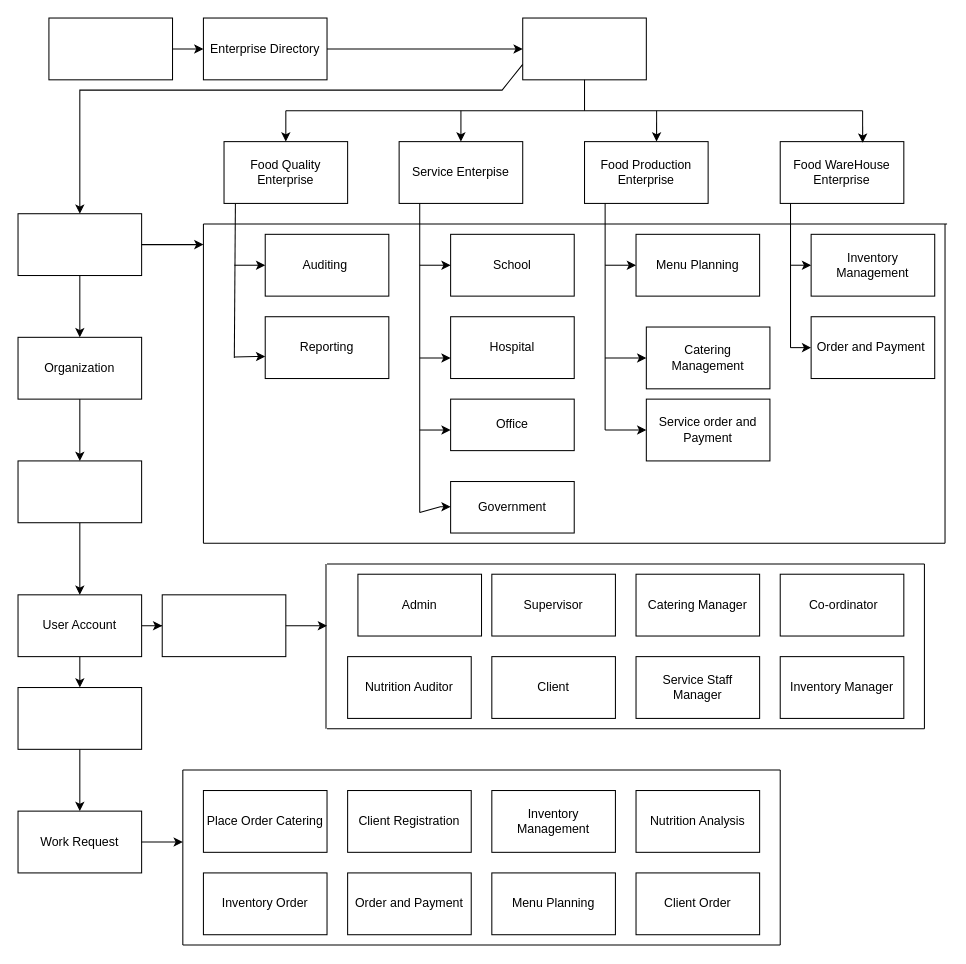
The diagram is 966 pixels wide and 964 high, and some of its shapes have lost their labels. Each missing label, with the box of its shape:
Application System: (48, 17, 173, 80)
Enterprise: (522, 17, 646, 80)
Organization Directory: (17, 213, 142, 276)
Roles: (161, 594, 286, 657)
User Account Directory: (17, 460, 142, 523)
Work Queue: (17, 686, 142, 749)
